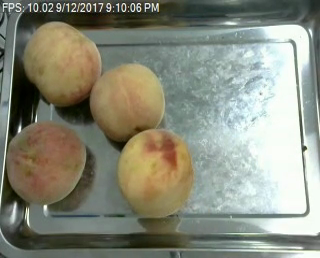Peach: (5, 119, 86, 205), (117, 127, 192, 217), (23, 21, 102, 106), (89, 61, 166, 141)
